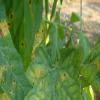Tomato Septoria leaf spot: (24, 46, 83, 99)
